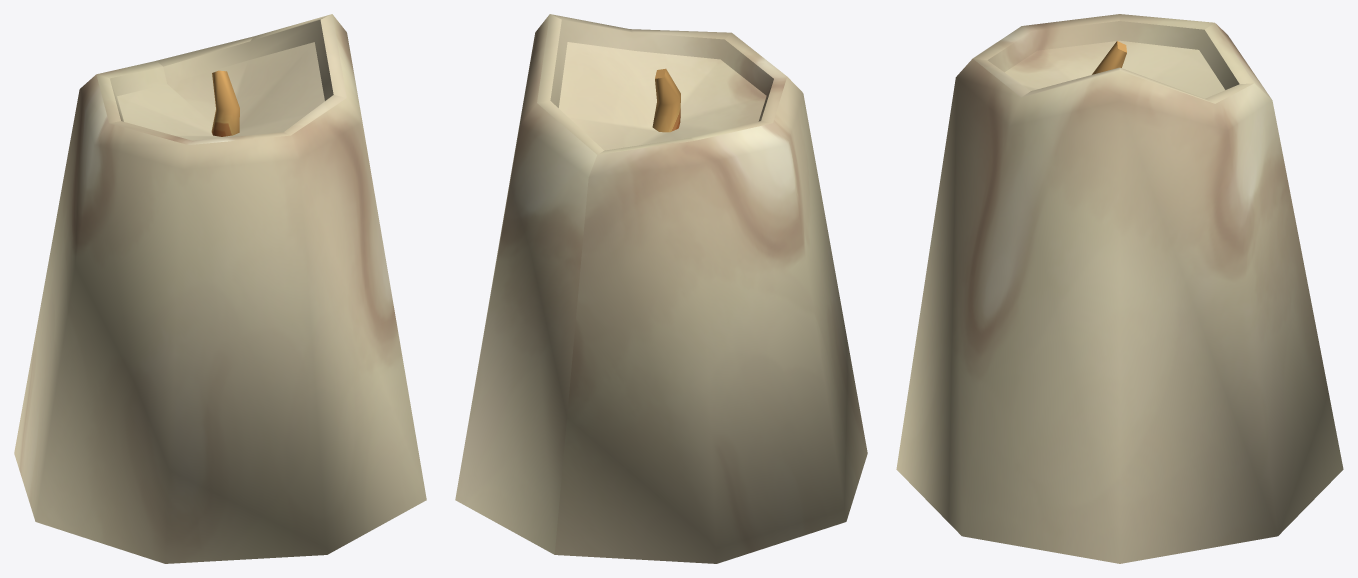
File: CandleThick.fbx
The picture shows the model from 3 angles, left to right: view 1: azimuth 30°, elevation 25°; view 2: azimuth 150°, elevation 25°; view 3: azimuth 270°, elevation 25°; orthographic projection. The views are drawn at different scales.
Parts seen in each view (by area): view 1: CandleThick; view 2: CandleThick; view 3: CandleThick.
Part boxes in pixels (box(x1,y1,x2,y2)): CandleThick: box(14, 14, 426, 563); CandleThick: box(455, 14, 867, 563); CandleThick: box(896, 14, 1343, 563).
Size of the model in its own units: 9.13 by 10.27 by 9.13.
